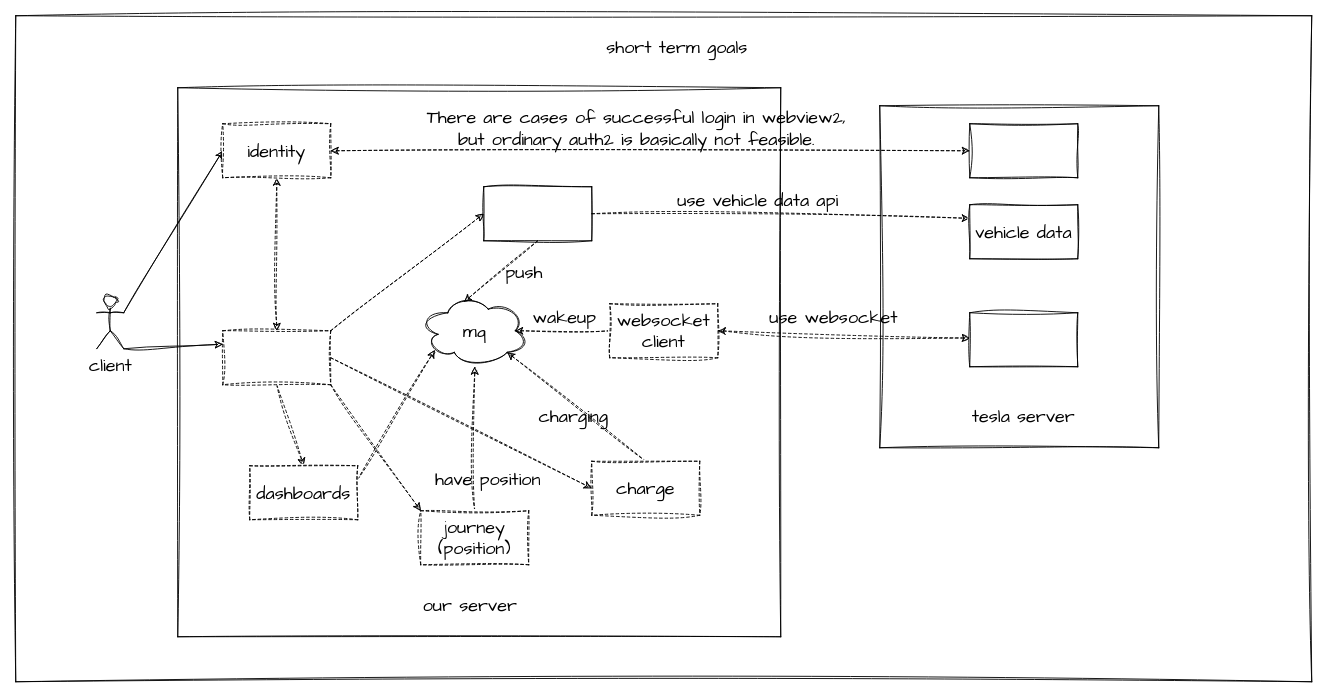
Some shapes in this 1328 by 698 pixel diagram are drawn without their labels. The shapes that lost their labels are listed below. From the top down, each one's box as (x1, y1, x2, y2) in pixels, then its label:
(969, 123, 1078, 178): tesla auth
(483, 186, 592, 241): vehicle
(222, 330, 331, 385): gateway
(969, 312, 1078, 367): websocket endpoint
